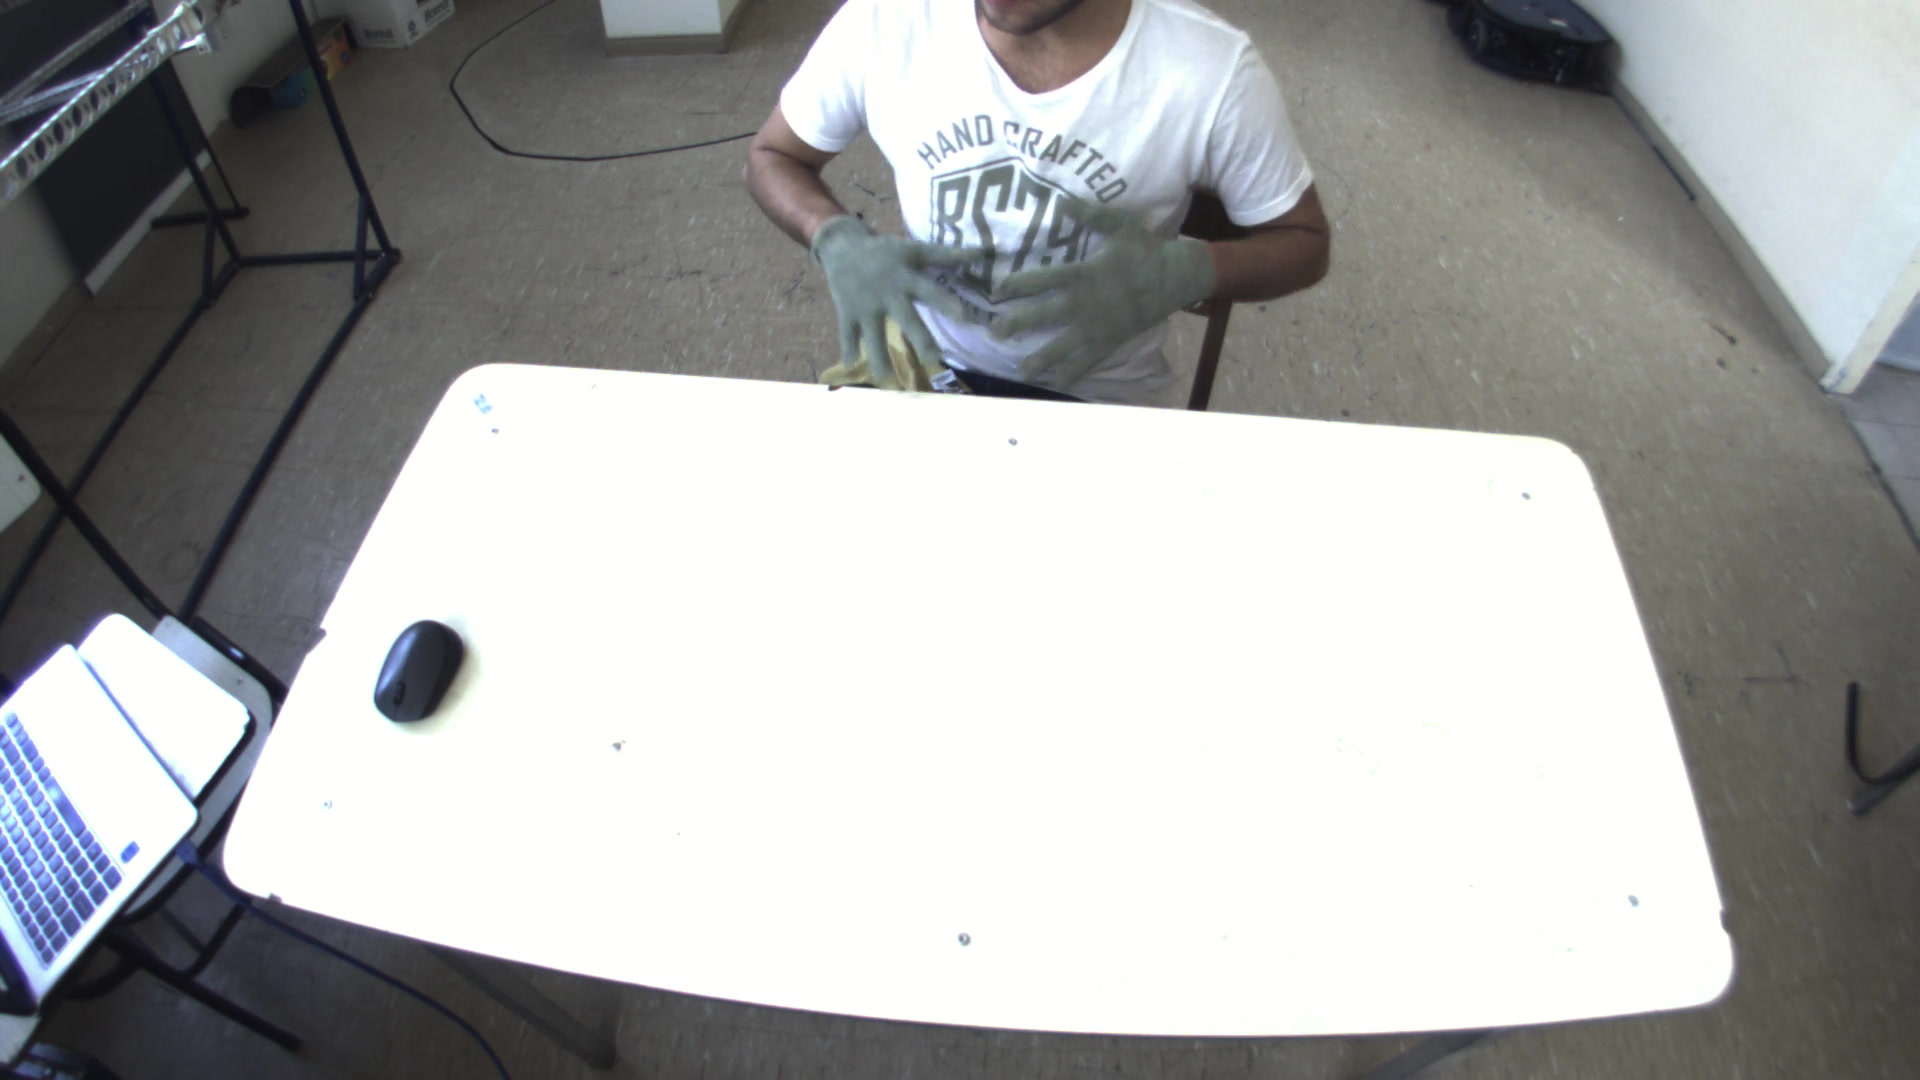hand: (982, 196, 1215, 381), (793, 204, 1001, 394)
